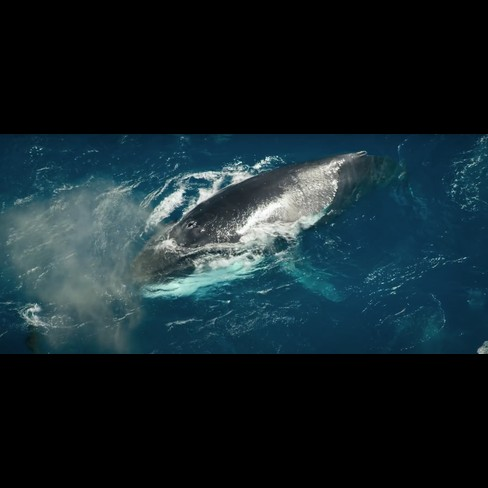hump: (117, 147, 431, 310)
